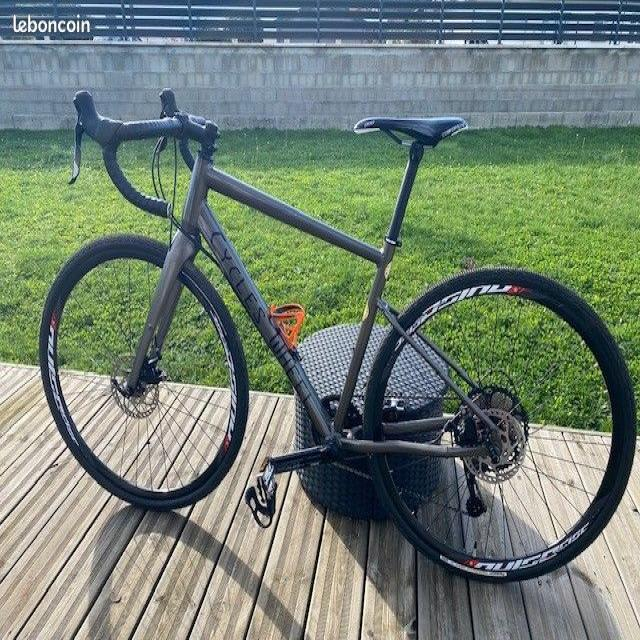Bike: (39, 88, 637, 587)
